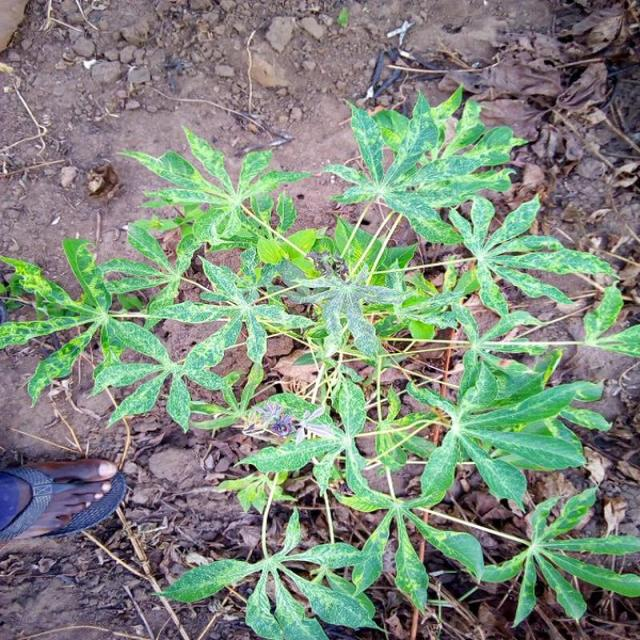cassava leaf: (0, 83, 638, 637)
